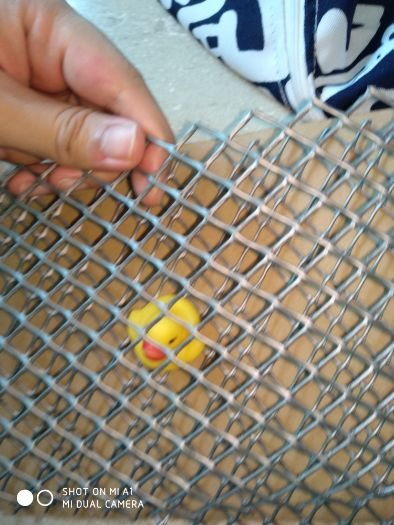unknownObject: (124, 292, 207, 376)
